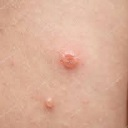Chickenpox: (57, 48, 84, 71), (42, 96, 58, 109)
